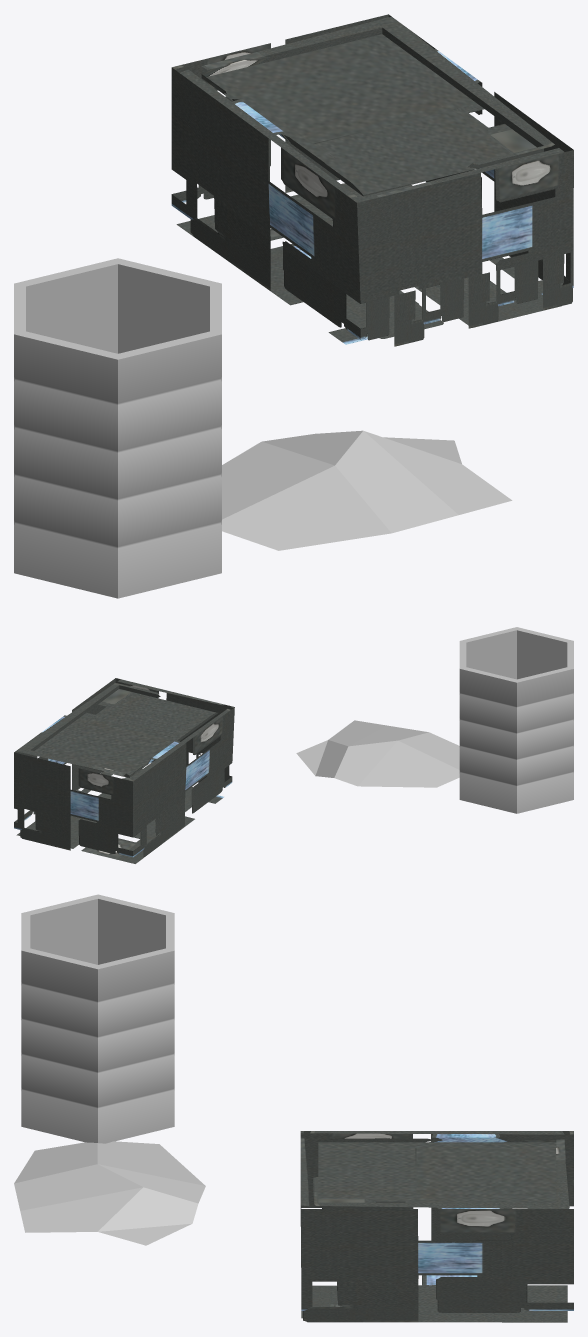
Rendered from Asset Main Building_V2.fbx_Kamar_Mandi_2.fbx.
3 renders of one model, top to bottom at view 1: azimuth 30°, elevation 25°; view 2: azimuth 150°, elevation 25°; view 3: azimuth 270°, elevation 25°, orthographic. The views are drawn at different scales.
Visible parts, largest first — view 1: Bak Mandi, gentong, baju kotor; view 2: Bak Mandi, gentong, baju kotor; view 3: Bak Mandi, gentong, baju kotor.
Part boxes in pixels (x1=…): Bak Mandi: x1=171, y1=14, x2=573, y2=346; gentong: x1=14, y1=258, x2=221, y2=598; baju kotor: x1=222, y1=430, x2=512, y2=550; Bak Mandi: x1=14, y1=678, x2=234, y2=863; gentong: x1=459, y1=627, x2=573, y2=813; baju kotor: x1=296, y1=720, x2=459, y2=787; Bak Mandi: x1=300, y1=1131, x2=573, y2=1322; gentong: x1=21, y1=894, x2=174, y2=1143; baju kotor: x1=14, y1=1141, x2=205, y2=1245.
Size of the model in its own units: 3866 by 1313 by 3646.
